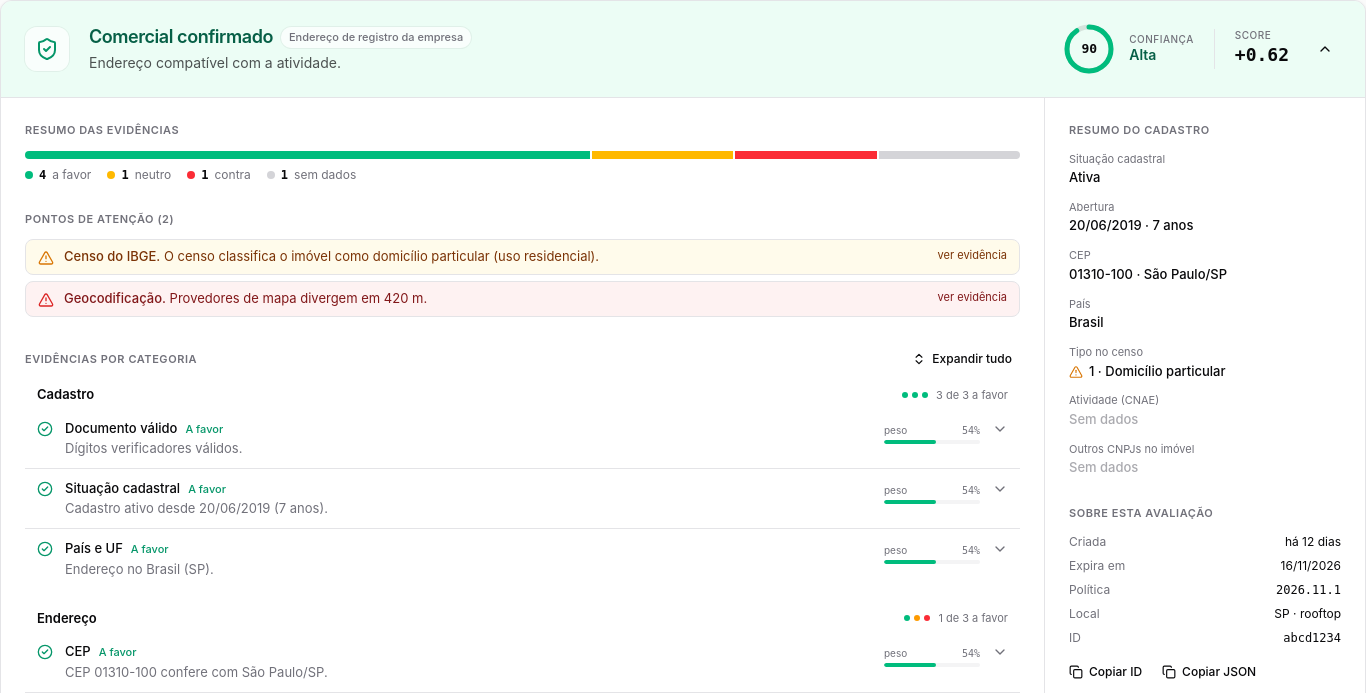
ValidationResult › agrupa as evidências por categoria e permite abrir o detalhe
Expected: the element "Cadastro" is shown, x1=25 y1=385 x2=1020 y2=589
What coordinates should you click on to do the following:
click the button that starts with "Documento válido"
I would click on:
 (121, 428)
Its box is x1=25 y1=408 x2=1020 y2=468.
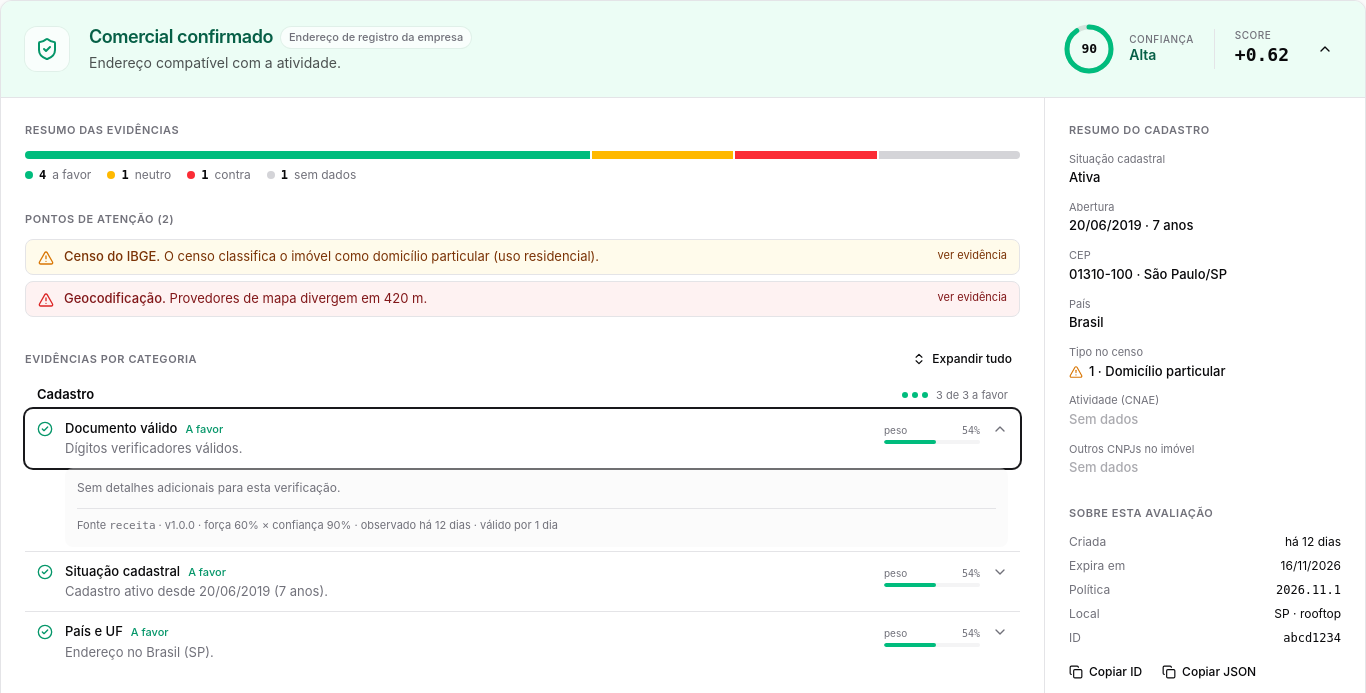
Now the button that starts with "Documento válido" is expanded
What coordinates should you click on to do the following:
click the button that starts with "Documento válido"
I would click on:
 (121, 428)
Its box is x1=25 y1=408 x2=1020 y2=468.
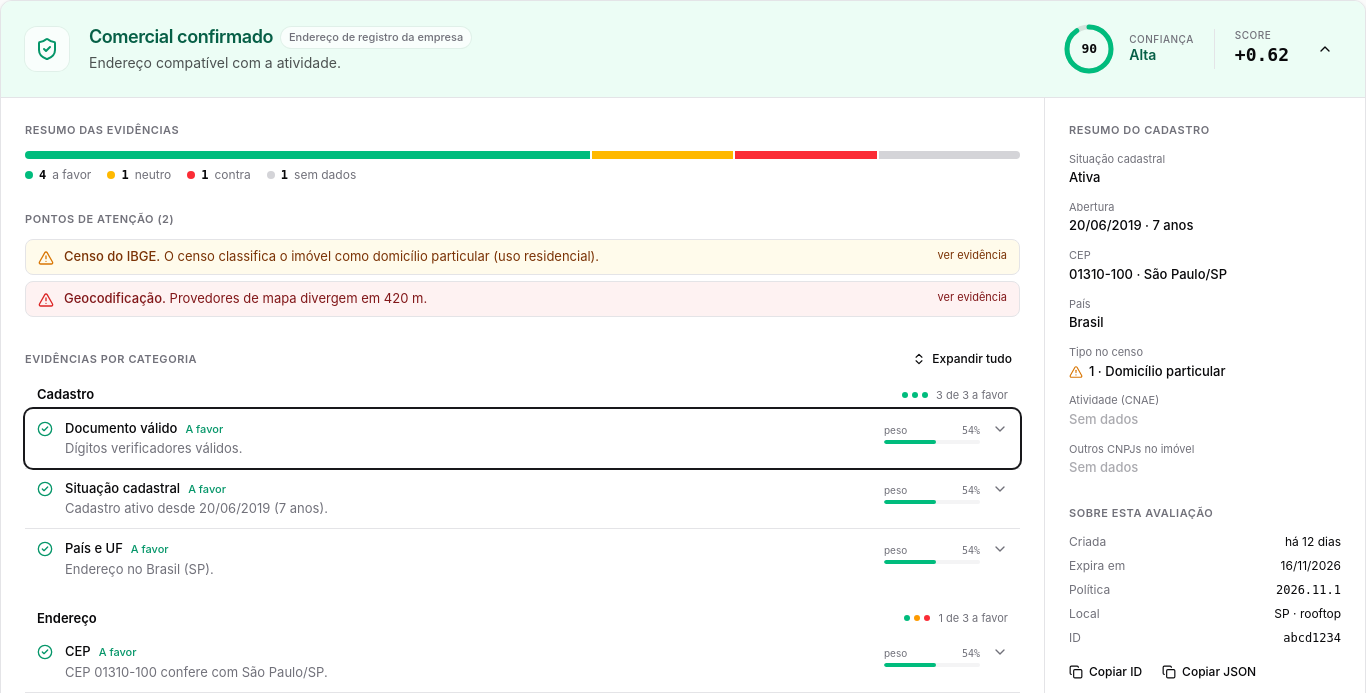
Now the button that starts with "Documento válido" is collapsed, box x1=25 y1=408 x2=1020 y2=468
